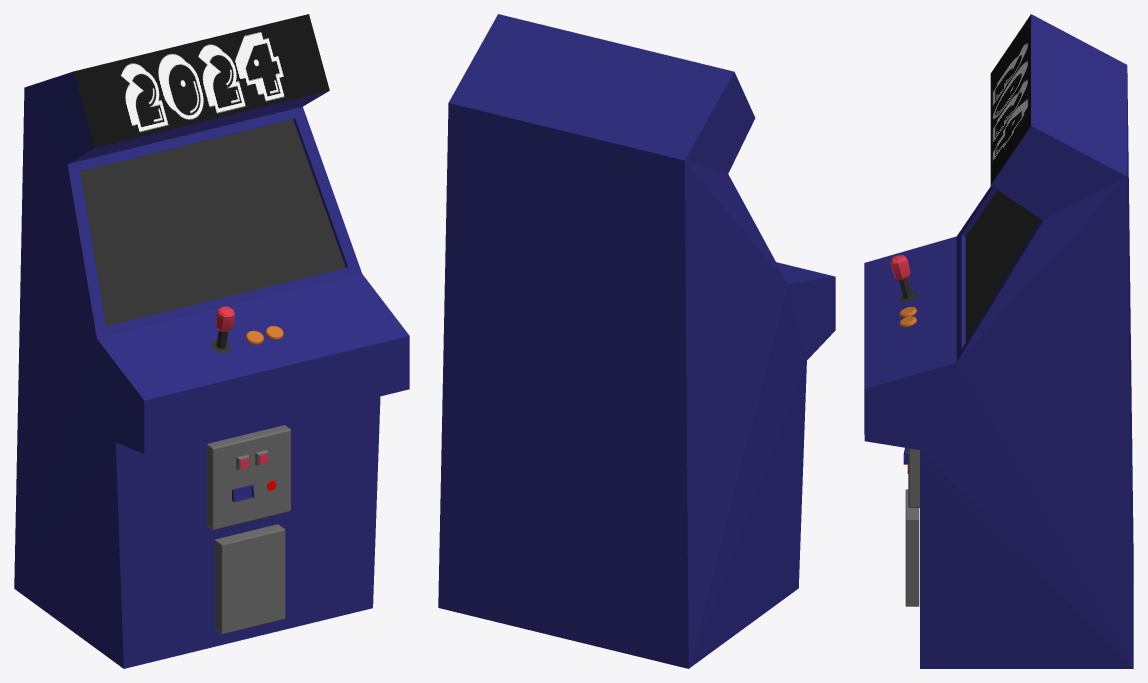
File: arcade_cabinet2.glb
3 renders of one model, left to right at view 1: azimuth 30°, elevation 25°; view 2: azimuth 150°, elevation 25°; view 3: azimuth 270°, elevation 25°, orthographic. The views are drawn at different scales.
Visible parts, largest first — view 1: Cube.001, pCube13.001, pCube8.001, LJoystick.stick.001; view 2: Cube.001; view 3: Cube.001, pCube13.001, pCube8.001, LJoystick.stick.001.
Boxes of the visible parts, box(x1,y1,x2,y2) form: Cube.001: box(14, 14, 409, 668); pCube13.001: box(214, 524, 285, 634); pCube8.001: box(206, 425, 290, 530); LJoystick.stick.001: box(215, 306, 234, 348); Cube.001: box(438, 14, 835, 668); Cube.001: box(864, 14, 1133, 668); pCube13.001: box(905, 489, 919, 606); pCube8.001: box(908, 448, 919, 507); LJoystick.stick.001: box(890, 255, 912, 298).
Bounding box in the file's own units: 0.7731 × 1.54 × 0.697.
8 materials, 1 textured.
